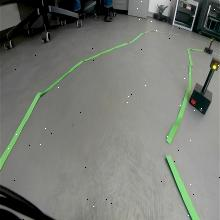green: (209, 56, 220, 72)
